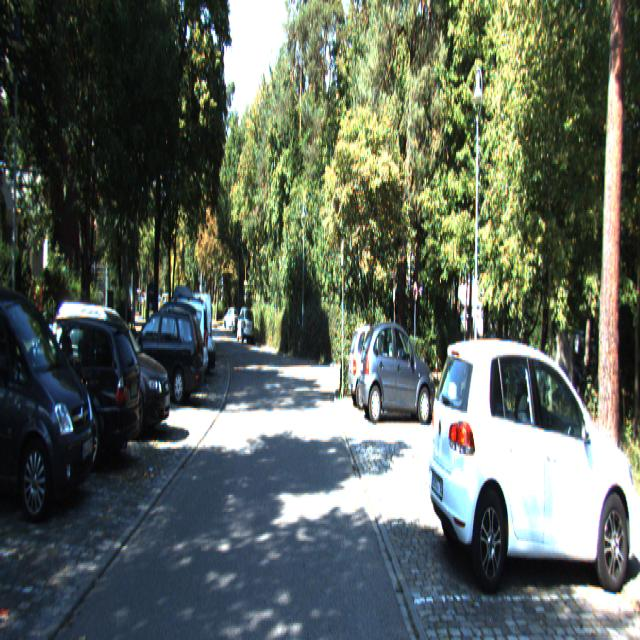Car: (422, 329, 640, 598), (0, 273, 103, 518), (0, 313, 145, 479), (45, 298, 175, 439), (117, 304, 205, 406), (358, 312, 435, 421), (346, 319, 413, 412), (237, 306, 254, 344)
DontCare: (179, 294, 215, 342), (223, 306, 235, 325)
